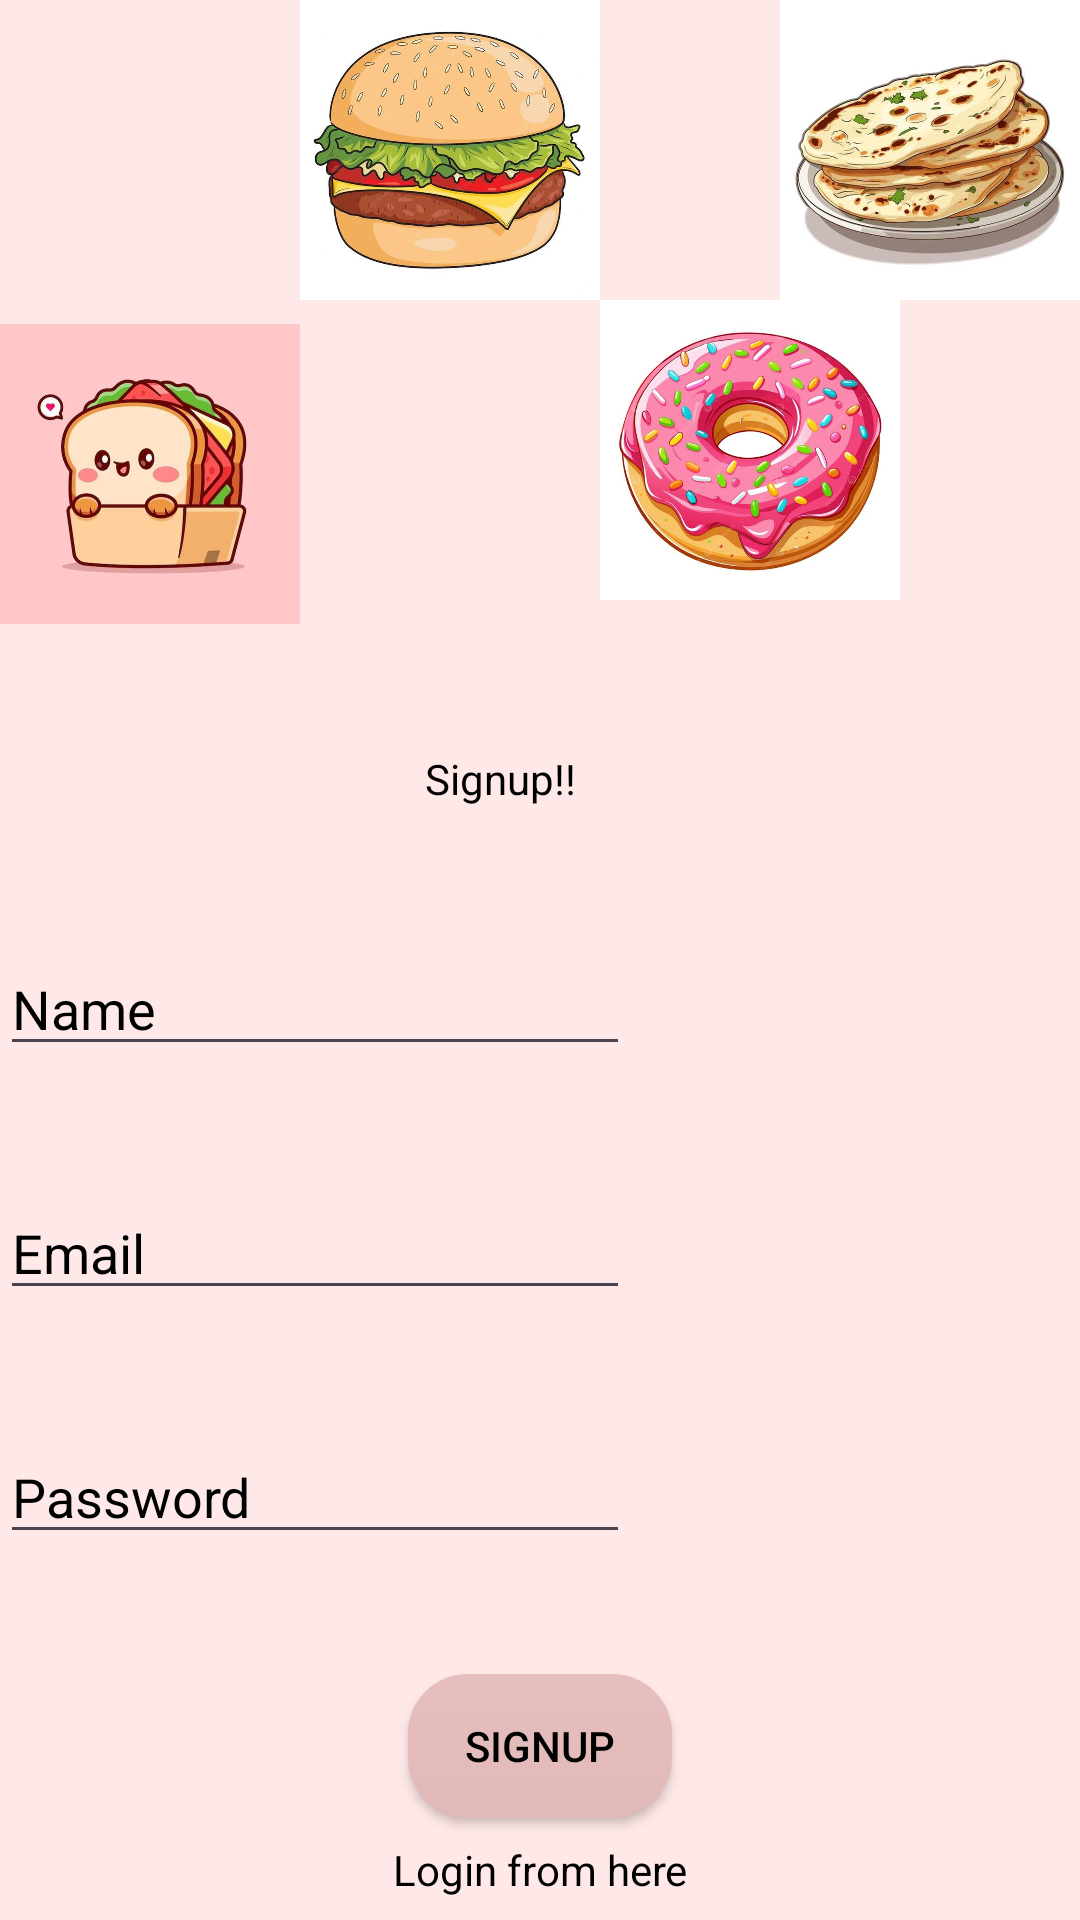

Screen size 1080 × 1920. Icon name, then its box in pixels as BBox(x1, y1, x2, y2):
burger: BBox(314, 32, 585, 269)
donut: BBox(619, 332, 882, 571)
naan: BBox(795, 59, 1064, 264)
sandwich: BBox(0, 324, 300, 624)
